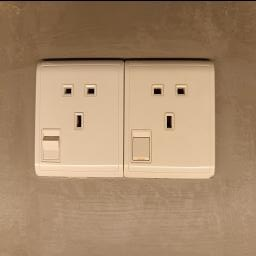outlet: (124, 52, 217, 181), (33, 52, 124, 182)
